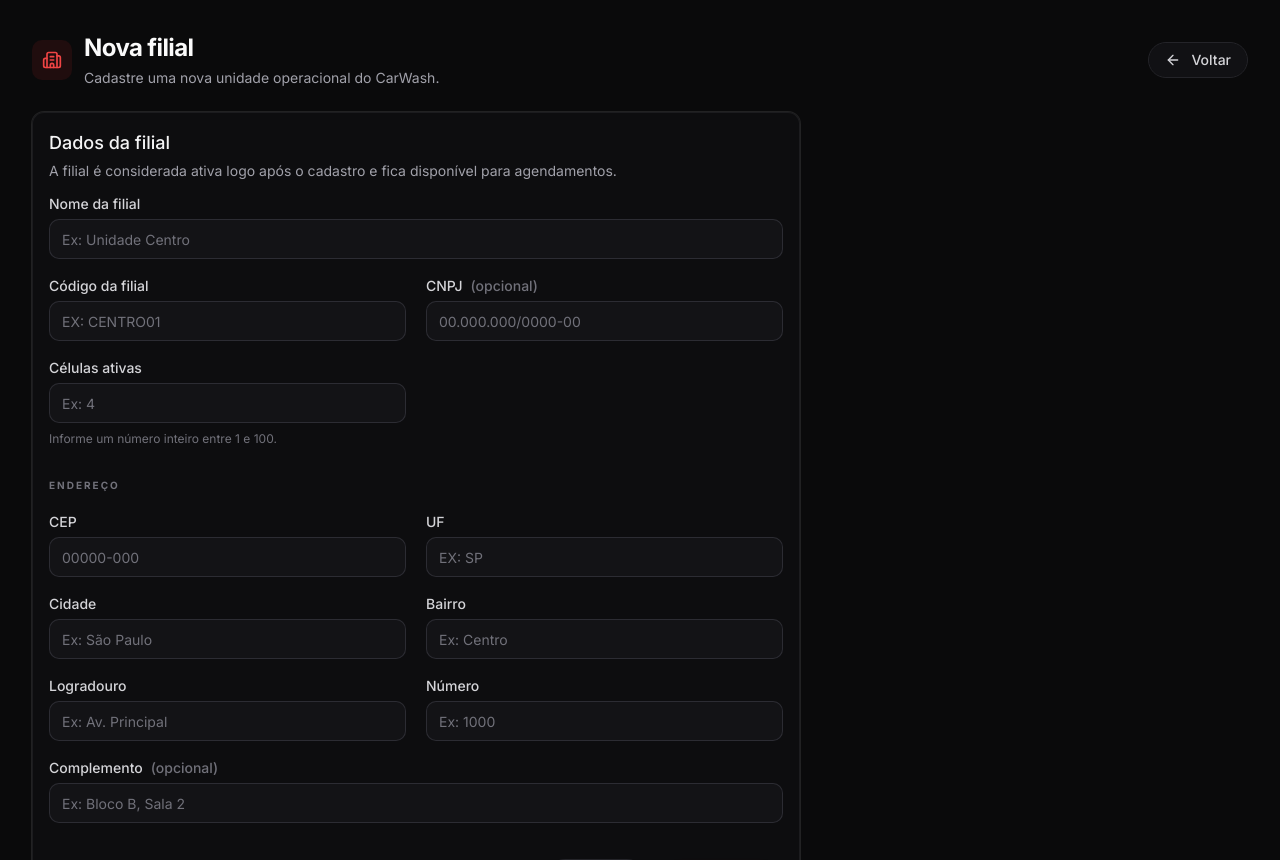
Test: FilialFormPage (RF017/RF018) › exibe mensagens de validação por campo ao informar valores inválidos
The width and height of the screenshot is (1280, 860).
Type "ab" into the field labelled "Nome da filial" at x=416, y=239, box x1=49 y1=219 x2=783 y2=259
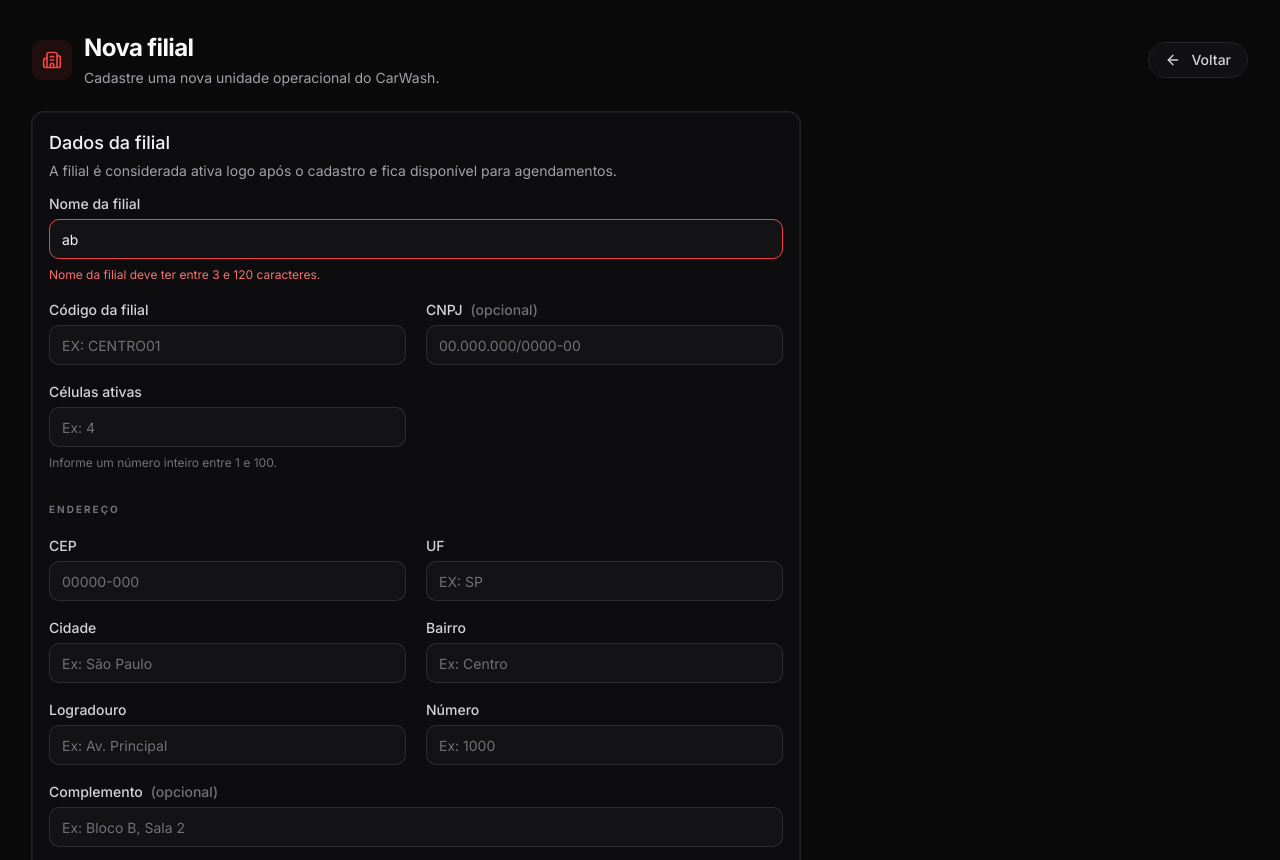
Type "200" into the field labelled "Células ativas" at x=228, y=427, box x1=49 y1=407 x2=406 y2=447
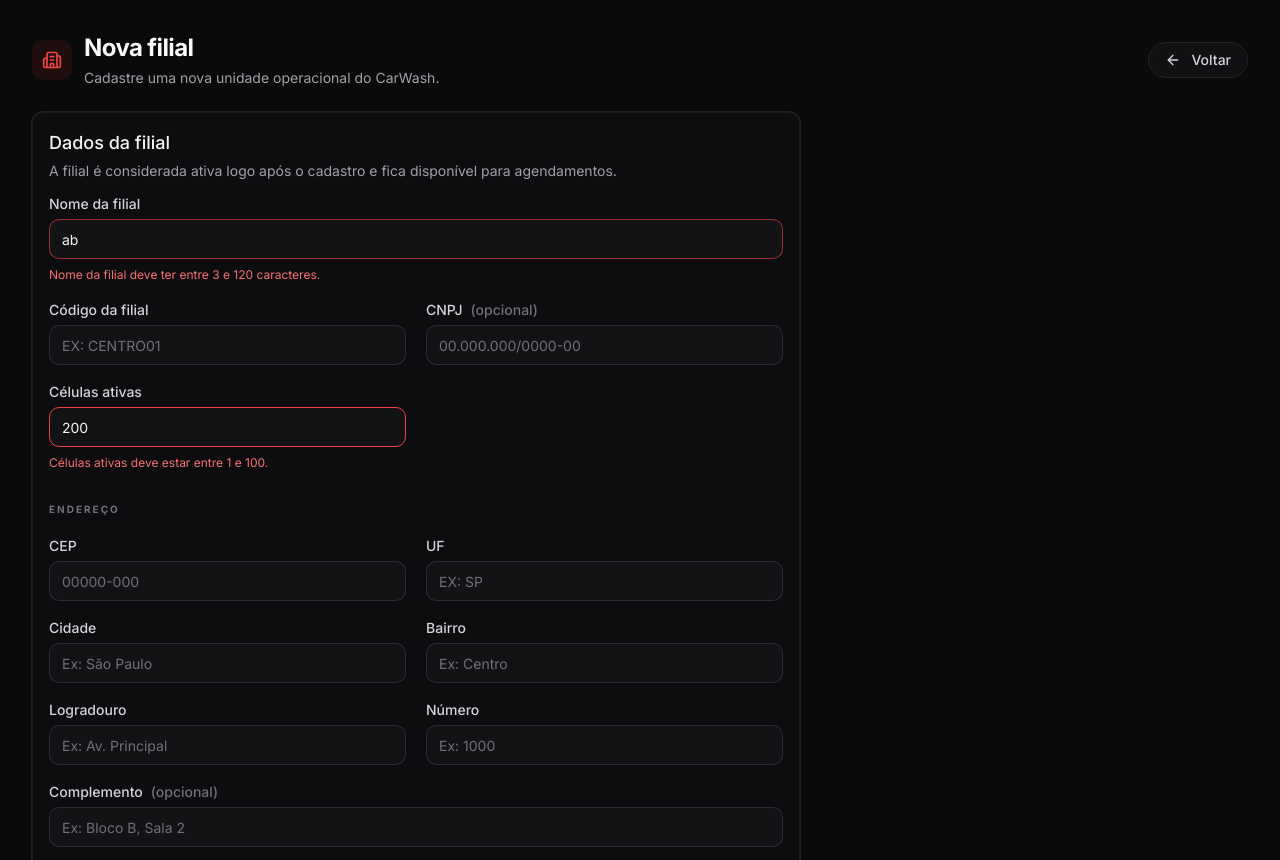
Expected: the text "Nome da filial deve ter entre 3 e 120 caracteres." is shown, x1=49 y1=267 x2=320 y2=282
Expected: the text "Células ativas deve estar entre 1 e 100." is shown, x1=49 y1=455 x2=268 y2=470
